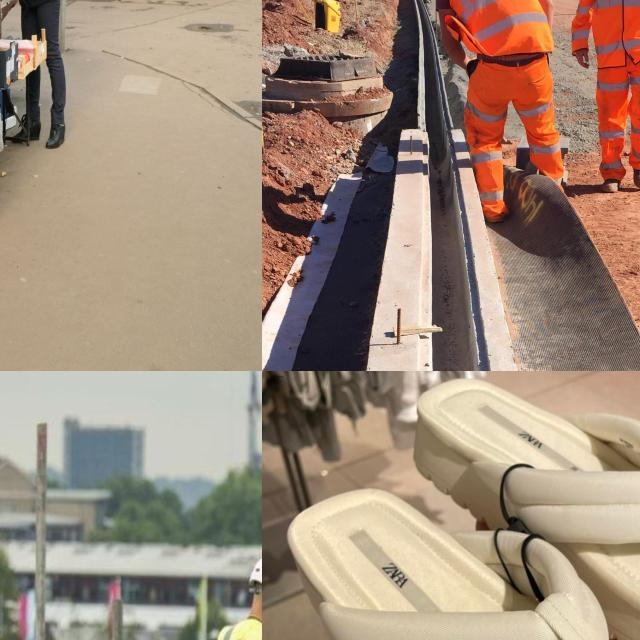Sandals: (275, 371, 640, 640)
hand_noglove: (572, 41, 595, 76)
head_helmet: (249, 553, 262, 596)
person: (436, 0, 572, 221), (576, 0, 640, 195)
vest: (445, 0, 553, 60), (589, 0, 640, 70)
